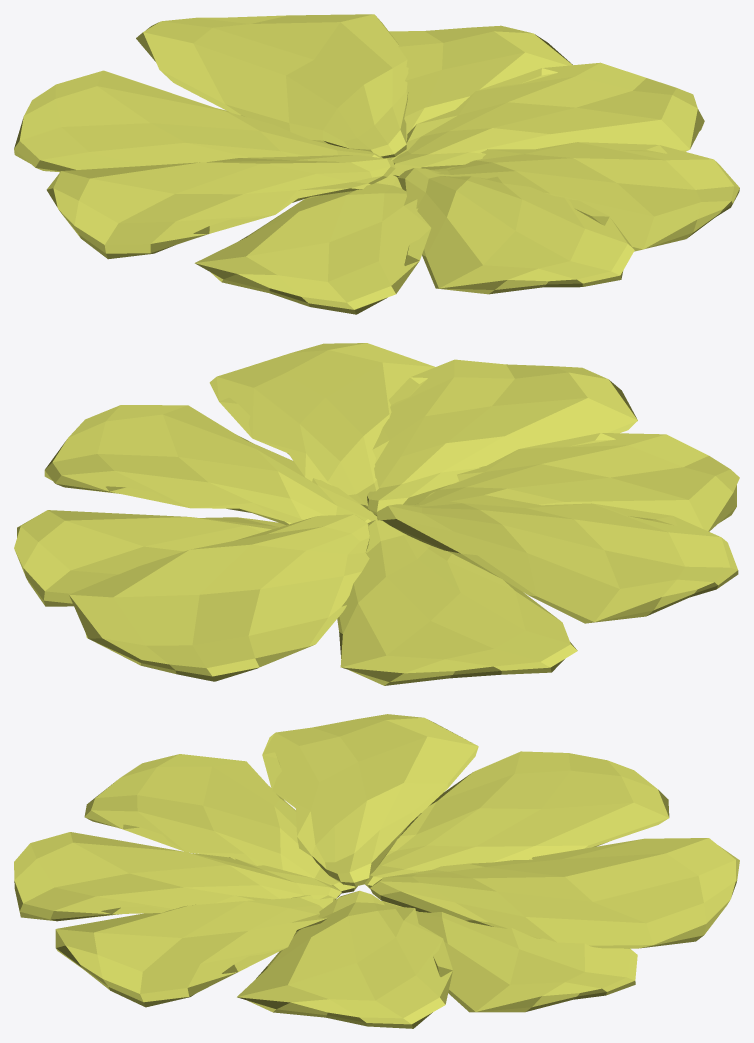
Rendered from luffaflower.fbx.
3 renders of one model, top to bottom at view 1: azimuth 30°, elevation 25°; view 2: azimuth 150°, elevation 25°; view 3: azimuth 270°, elevation 25°, orthographic. The views are drawn at different scales.
Visible parts, largest first — view 1: petal, petal.003, petal.004, petal.007, petal.002, petal.001, petal.006, petal.005; view 2: petal, petal.003, petal.002, petal.004, petal.007, petal.006, petal.001, petal.005; view 3: petal, petal.003, petal.002, petal.007, petal.004, petal.006, petal.001, petal.005.
Boxes of the visible parts, x1=… form: petal: x1=136, y1=14, x2=408, y2=158; petal.003: x1=46, y1=155, x2=395, y2=259; petal.004: x1=397, y1=168, x2=634, y2=294; petal.007: x1=391, y1=62, x2=704, y2=177; petal.002: x1=14, y1=70, x2=382, y2=172; petal.001: x1=194, y1=174, x2=431, y2=314; petal.006: x1=431, y1=142, x2=739, y2=251; petal.005: x1=384, y1=25, x2=572, y2=160; petal: x1=69, y1=514, x2=369, y2=681; petal.003: x1=376, y1=495, x2=738, y2=623; petal.002: x1=337, y1=520, x2=577, y2=685; petal.004: x1=367, y1=359, x2=637, y2=515; petal.007: x1=44, y1=405, x2=377, y2=525; petal.006: x1=209, y1=343, x2=435, y2=515; petal.001: x1=414, y1=433, x2=739, y2=531; petal.005: x1=14, y1=510, x2=285, y2=606; petal: x1=370, y1=838, x2=739, y2=948; petal.003: x1=262, y1=714, x2=478, y2=886; petal.002: x1=365, y1=751, x2=669, y2=888; petal.007: x1=237, y1=890, x2=452, y2=1028; petal.004: x1=14, y1=832, x2=341, y2=921; petal.006: x1=55, y1=895, x2=335, y2=1007; petal.001: x1=84, y1=754, x2=357, y2=893; petal.005: x1=382, y1=901, x2=637, y2=1012.
Size of the model in its own units: 1039 by 86.51 by 1107.
